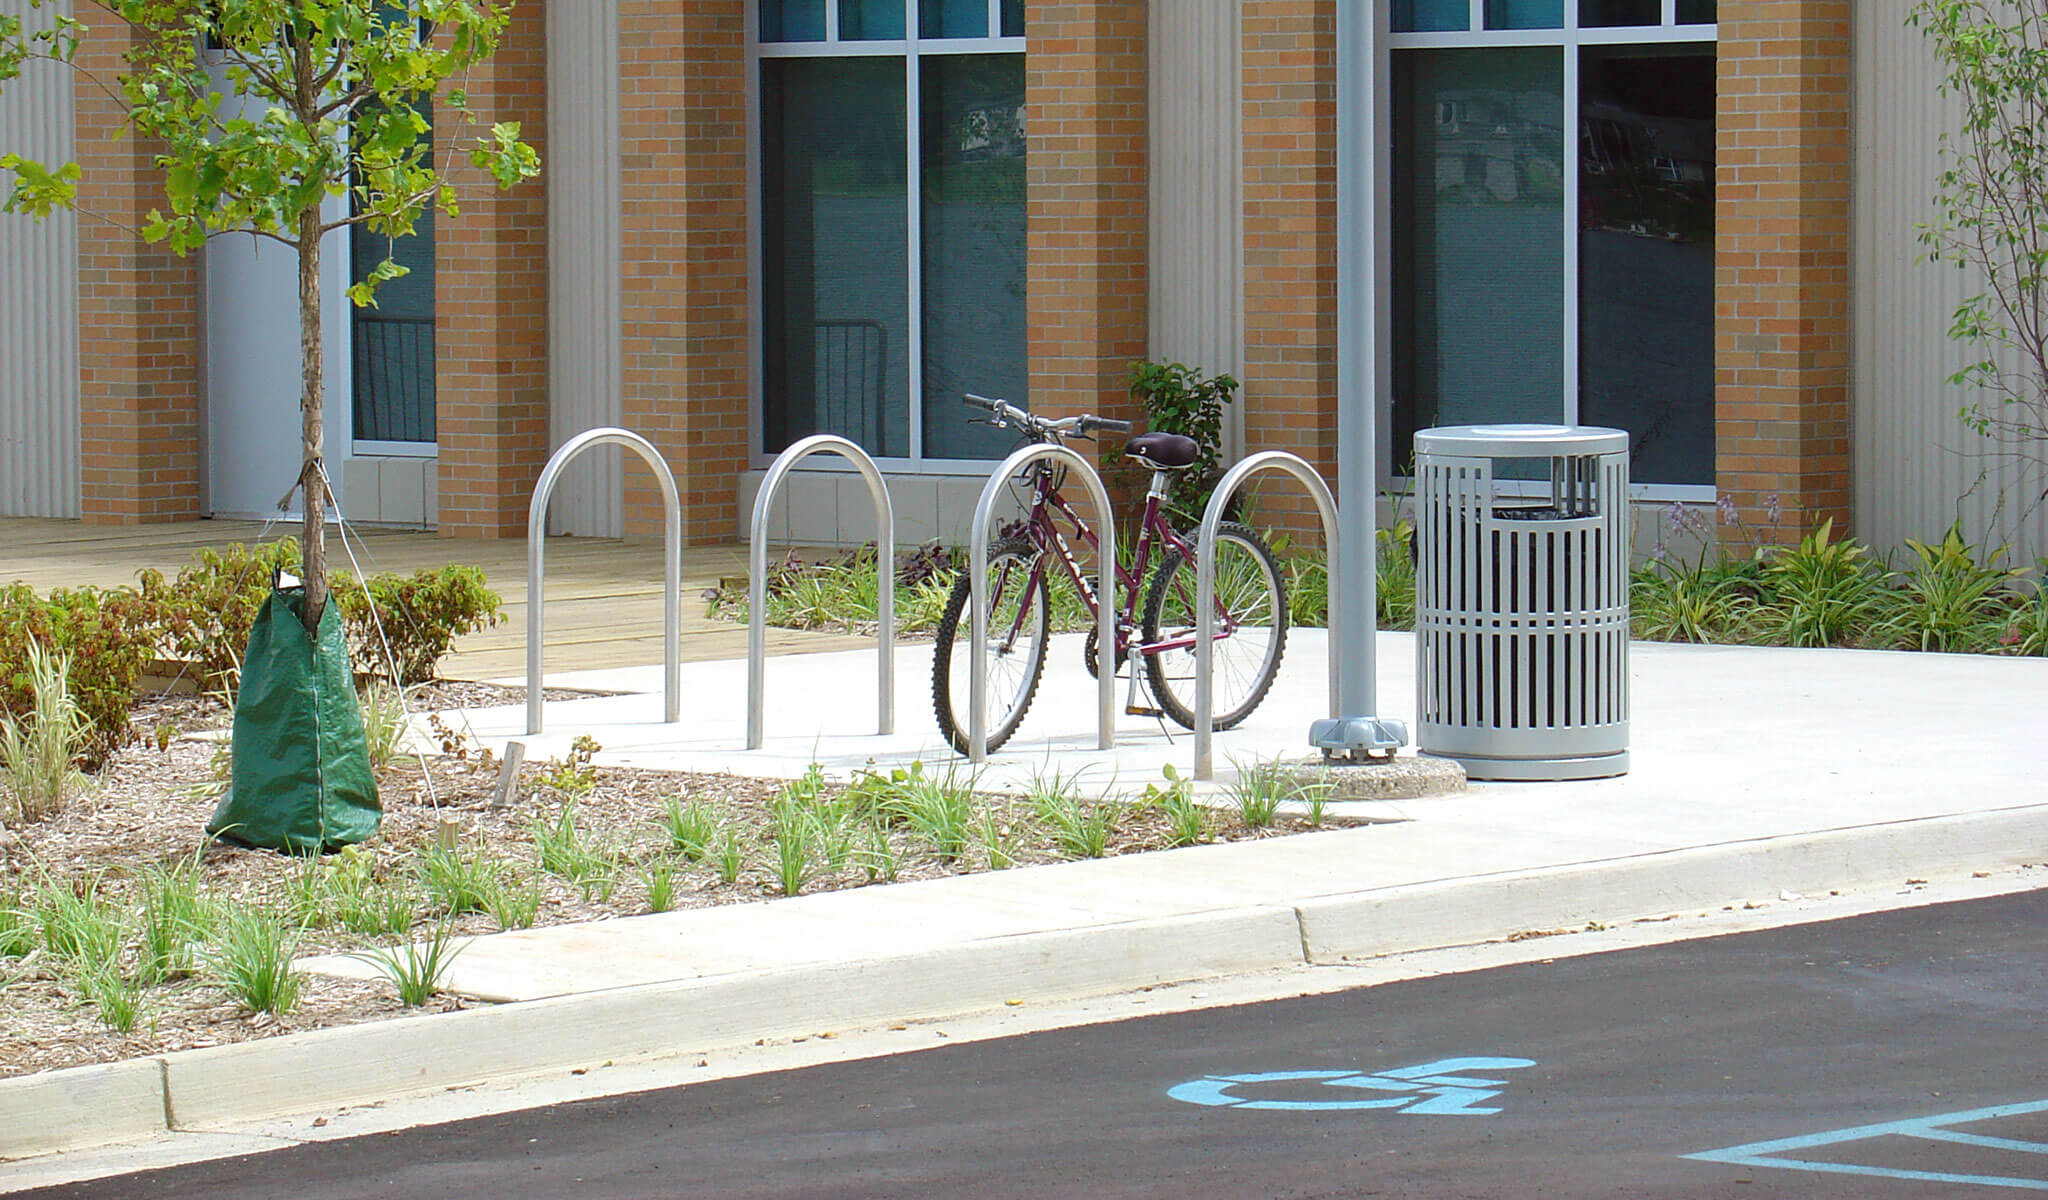bike: (925, 359, 1351, 779)
